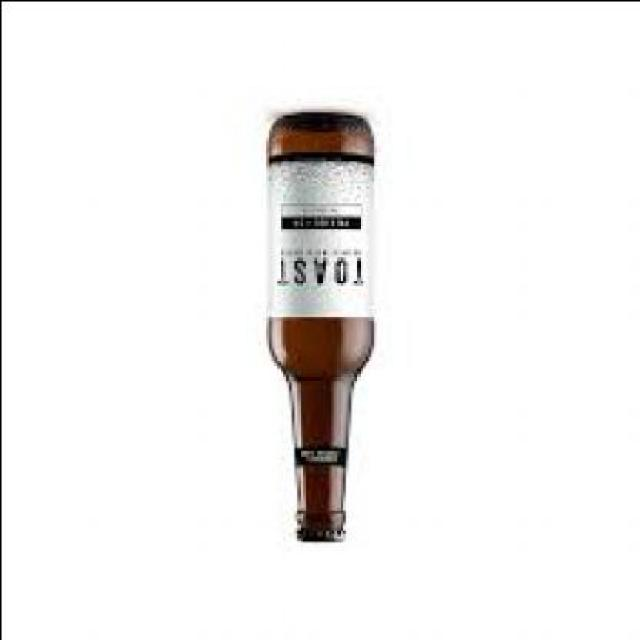GLASS: (264, 114, 373, 543)
METAL: (298, 529, 348, 543)
